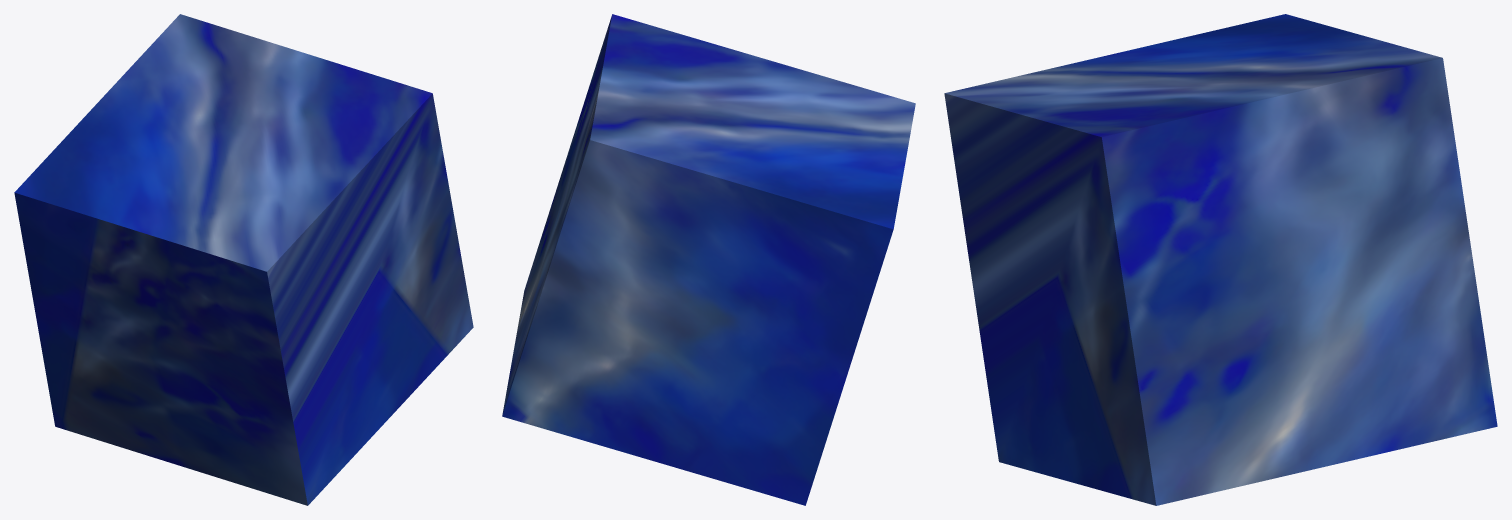
Rendered from TheOctagon_Floor_0_BlueBlock.gltf.
3 renders of one model, left to right at view 1: azimuth 30°, elevation 25°; view 2: azimuth 150°, elevation 25°; view 3: azimuth 270°, elevation 25°, orthographic. The views are drawn at different scales.
Visible parts, largest first — view 1: TheOctagon_Floor_0_BlueBlock; view 2: TheOctagon_Floor_0_BlueBlock; view 3: TheOctagon_Floor_0_BlueBlock.
Part boxes in pixels (x1=…): TheOctagon_Floor_0_BlueBlock: x1=14, y1=14, x2=473, y2=505; TheOctagon_Floor_0_BlueBlock: x1=502, y1=14, x2=915, y2=505; TheOctagon_Floor_0_BlueBlock: x1=944, y1=14, x2=1497, y2=505.
Bounding box in the file's own units: 4.17 × 3.42 × 3.94.
Materials: 1 (1 with a texture image).
